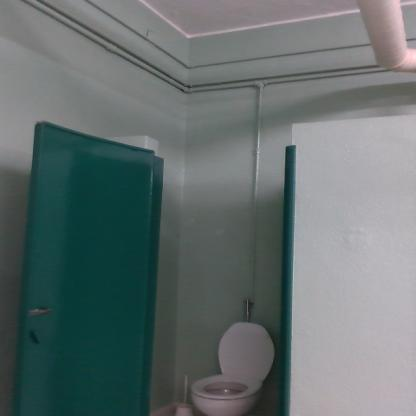open: (17, 109, 304, 416)
